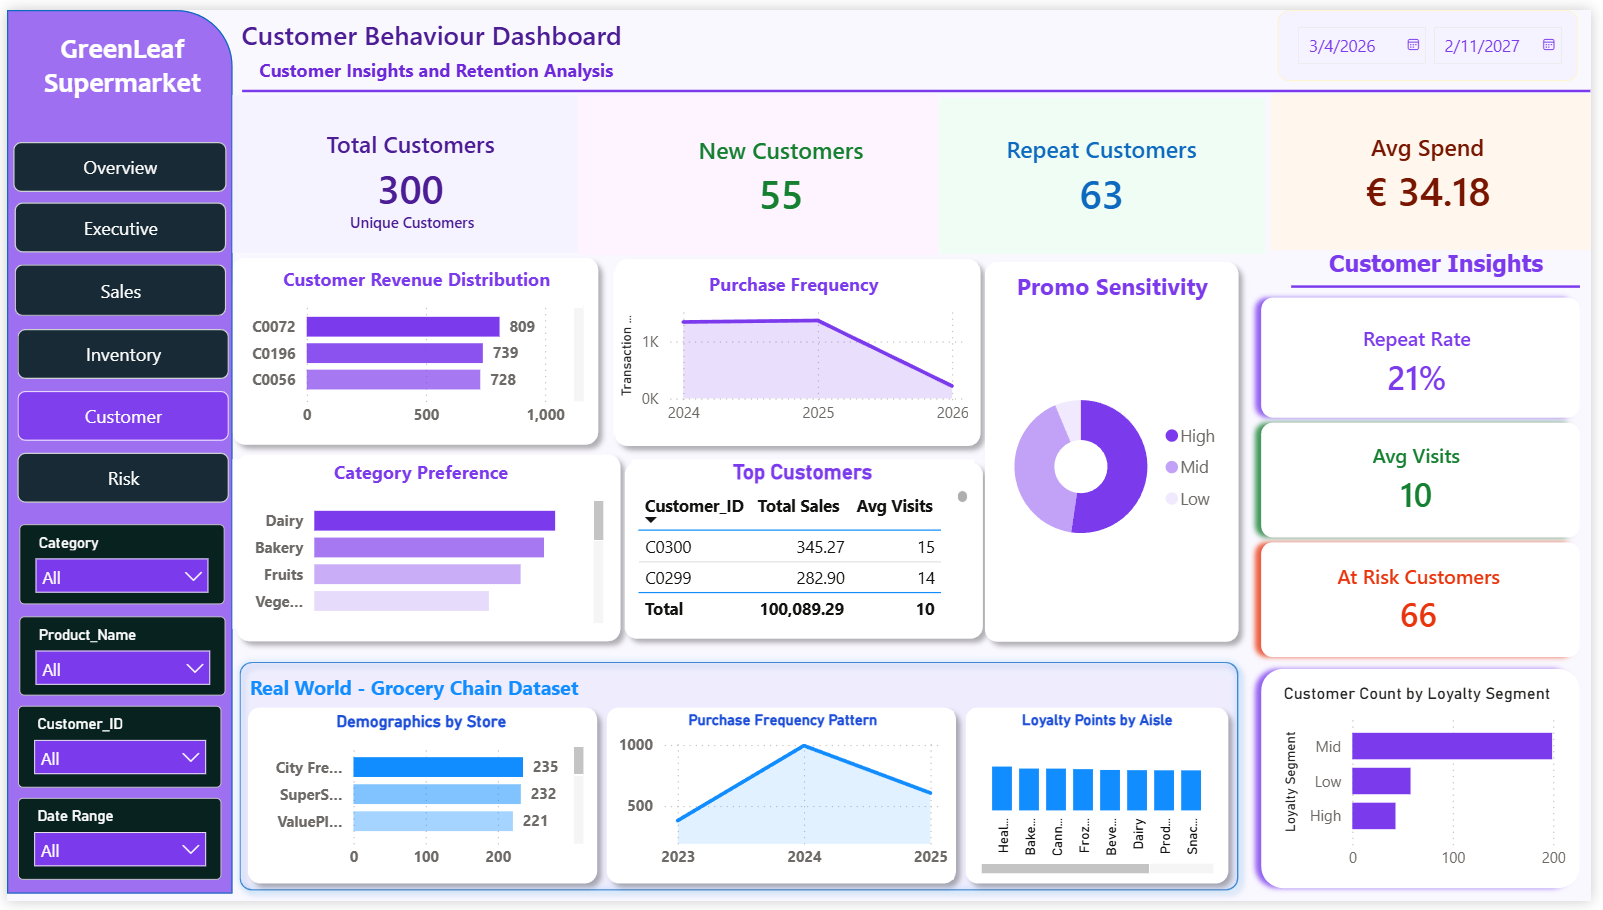

The page's visual inventory and layout, read from the dashboard file:
{"tool":"powerbi","page":{"name":"Customer","canvas":[1280,720],"ordinal":4},"visuals":[{"type":"group","id":"g1","title":"Group 4","box":[0,0,186.5,719.4],"z":0},{"type":"shape","box":[0,0,182.3,714.1],"z":1,"group":"g1"},{"type":"shape","box":[182.3,0,1098,68.7],"z":1000},{"type":"actionButton","box":[0,107.2,182.3,40.4],"z":1000,"group":"g1"},{"type":"textbox","box":[184.3,0,320,40],"z":2000},{"type":"actionButton","box":[1.4,155.9,180.9,40.4],"z":2000,"group":"g1"},{"type":"textbox","box":[198.6,32.9,351.4,30],"z":3000},{"type":"actionButton","box":[1.4,206,180.9,41.8],"z":3000,"group":"g1"},{"type":"slicer","fields":{"Values":["Inventory_dataset.Expiry_Date"]},"box":[1027.1,0,242.9,57.1],"z":4000},{"type":"actionButton","box":[2.8,257.5,180.9,40.4],"z":4000,"group":"g1"},{"type":"shape","box":[190.5,58.4,1089.5,13.1],"z":5000},{"type":"actionButton","box":[2.8,307.6,180.9,40.4],"z":5000,"group":"g1"},{"type":"shape","box":[182.3,68.7,279.1,127.6],"z":6000},{"type":"actionButton","box":[2.8,357.7,180.9,40.4],"z":6000,"group":"g1"},{"type":"shape","box":[461.3,67.3,291.7,130.4],"z":7000},{"type":"slicer","fields":{"Values":["Products_dataset.Category"]},"box":[9.5,415.3,165.7,65.1],"z":7000,"group":"g1"},{"type":"shape","box":[753,71.5,263.6,126.2],"z":8000},{"type":"slicer","fields":{"Values":["Products_dataset.Product_Name"]},"box":[9.5,489.9,166.9,63.9],"z":8000,"group":"g1"},{"type":"shape","box":[1020.9,67.3,259.4,126.2],"z":9000},{"type":"slicer","fields":{"Values":["Customers_dataset.Customer_ID"]},"box":[8.3,562.1,164.5,66.3],"z":9000,"group":"g1"},{"type":"textbox","title":"GreenLeaf Supermarket","box":[0,16.7,186.5,64],"z":10000,"group":"g1"},{"type":"cardVisual","fields":{"Data":["Sales_dataset.Total Customers"]},"box":[190.7,65.9,270.6,129],"z":10000},{"type":"textbox","box":[272,157.1,127.6,37.9],"z":11000},{"type":"slicer","fields":{"Values":["Sales_dataset.Date"]},"box":[8.3,636.6,164.5,66.3],"z":11000,"group":"g1"},{"type":"cardVisual","fields":{"Data":["Customers_dataset.New Customers"]},"box":[528.7,70.1,193.5,129],"z":12000},{"type":"cardVisual","fields":{"Data":["Customers_dataset.Repeat Customers"]},"box":[765.6,75.7,238.4,117.8],"z":13000},{"type":"cardVisual","fields":{"Data":["Customers_dataset.Avg Spend"]},"box":[1054.5,68.7,187.9,126.2],"z":14000},{"type":"textbox","box":[1062.8,188.1,201.2,35],"z":15000},{"type":"shape","box":[1038,211.4,233.3,24.8],"z":16000},{"type":"shape","box":[173.5,191,313.4,169.1],"z":19000},{"type":"shape","box":[1004.5,223.1,275.5,115.2],"z":19000,"group":"g2"},{"type":"group","id":"g2","title":"Group 1","box":[1004.5,223.1,275.5,495.7],"z":20000},{"type":"cardVisual","fields":{"Data":["Customers_dataset.Repeat Rate"]},"box":[1027.8,239.1,223.1,90.4],"z":20000,"group":"g2"},{"type":"shape","box":[482.6,192.4,313.4,169.1],"z":21000},{"type":"shape","box":[1004.5,323.7,275.5,110.8],"z":21000,"group":"g2"},{"type":"cardVisual","fields":{"Data":["Customers_dataset.Avg Visits"]},"box":[1062.8,335.4,153.1,86],"z":22000,"group":"g2"},{"type":"shape","box":[176.4,349.9,328,169.1],"z":22000},{"type":"shape","box":[489.8,357.2,307.6,160.4],"z":23000},{"type":"shape","box":[1004.5,421.4,275.5,110.8],"z":23000,"group":"g2"},{"type":"barChart","title":"Customer Revenue Distribution","fields":{"Category":["Customers_dataset.Customer_ID"],"Y":["Customers_dataset.Total Sales"]},"box":[191,207,279.9,138.5],"z":24000},{"type":"cardVisual","fields":{"Data":["Customers_dataset.At Risk Customers"]},"box":[1020.7,433.4,239.8,85.5],"z":24000,"group":"g2"},{"type":"lineChart","title":"Purchase Frequency","fields":{"Category":["Sales_dataset.Date.Variation.Date Hierarchy.Year","Sales_dataset.Date.Variation.Date Hierarchy.Quarter","Sales_dataset.Date.Variation.Date Hierarchy.Month","Sales_dataset.Date.Variation.Date Hierarchy.Day"],"Y":["Sales_dataset.Transaction Count"]},"box":[489.8,211.4,291.6,132.7],"z":25000},{"type":"shape","box":[1004.5,523.4,275.5,195.4],"z":25000,"group":"g2"},{"type":"barChart","title":"Category Preference","fields":{"Category":["Products_dataset.Category"],"Y":["Customers_dataset.Total Sales"]},"box":[182.2,363,304.7,137],"z":26000},{"type":"clusteredBarChart","fields":{"Category":["Customers_dataset.Loyalty Segment"],"Y":["Customers_dataset.Customer Count"]},"box":[1026.4,543.8,237.6,158.9],"z":26000,"group":"g2"},{"type":"tableEx","title":"Top Customers","fields":{"Values":["Sales_dataset.Customer_ID","Customers_dataset.Total Sales","Customers_dataset.Avg Visits"]},"box":[504.4,363,277,137],"z":27000},{"type":"shape","box":[781.4,193.9,223.1,325.1],"z":28000},{"type":"shape","box":[179.3,517.5,825.1,202.6],"z":29000},{"type":"donutChart","title":" Promo Sensitivity","fields":{"Category":["Customers_dataset.Promo Sensitivity"],"Y":["Customers_dataset.Customer Count"]},"box":[796,209.9,195.4,293],"z":30000},{"type":"shape","box":[185.1,554,300.3,160.4],"z":31000},{"type":"textbox","box":[190.7,531.5,360.4,43.5],"z":32000},{"type":"shape","box":[475.3,554,300.3,160.4],"z":33000},{"type":"shape","box":[765.4,554,230.3,160.4],"z":34000},{"type":"clusteredBarChart","title":"Demographics by Store","fields":{"Category":["grocery_chain_data.store_name"],"Y":["grocery_chain_data.GC Cust Transaction Count"]},"box":[199.1,566.5,272,136],"z":35000},{"type":"lineChart","title":"Purchase Frequency Pattern","fields":{"Category":["grocery_chain_data.transaction_date.Variation.Date Hierarchy.Year","grocery_chain_data.transaction_date.Variation.Date Hierarchy.Quarter","grocery_chain_data.transaction_date.Variation.Date Hierarchy.Month","grocery_chain_data.transaction_date.Variation.Date Hierarchy.Day"],"Y":["grocery_chain_data.GC Cust Transaction Count"]},"box":[489.4,566.5,276.2,136],"z":36000},{"type":"clusteredColumnChart","title":"Loyalty Points by Aisle","fields":{"Category":["grocery_chain_data.aisle"],"Y":["grocery_chain_data.GC Cust Avg Loyalty"]},"box":[782.5,566.5,197.7,136],"z":37000}]}

Visuals, with their boxes in screenshot pixels (x1, y1, x2, y2), scaled from the page's 1280x720 canvas onto the 1603x910 screenshot:
"Group 4" group: <box>0,0,234,909</box>
shape: <box>0,0,228,903</box>
shape: <box>228,0,1602,87</box>
actionButton: <box>0,135,228,187</box>
textbox: <box>231,0,632,51</box>
actionButton: <box>2,197,228,248</box>
textbox: <box>249,42,689,79</box>
actionButton: <box>2,260,228,313</box>
slicer - Inventory_dataset.Expiry_Date: <box>1286,0,1590,72</box>
actionButton: <box>4,325,230,377</box>
shape: <box>239,74,1602,90</box>
actionButton: <box>4,389,230,440</box>
shape: <box>228,87,578,248</box>
actionButton: <box>4,452,230,503</box>
shape: <box>578,85,943,250</box>
slicer - Products_dataset.Category: <box>12,525,219,607</box>
shape: <box>943,90,1273,250</box>
slicer - Products_dataset.Product_Name: <box>12,619,221,700</box>
shape: <box>1279,85,1602,245</box>
slicer - Customers_dataset.Customer_ID: <box>10,710,216,794</box>
"GreenLeaf Supermarket" textbox: <box>0,21,234,102</box>
cardVisual - Sales_dataset.Total Customers: <box>239,83,578,246</box>
textbox: <box>341,199,500,246</box>
slicer - Sales_dataset.Date: <box>10,805,216,888</box>
cardVisual - Customers_dataset.New Customers: <box>662,89,904,252</box>
cardVisual - Customers_dataset.Repeat Customers: <box>959,96,1257,245</box>
cardVisual - Customers_dataset.Avg Spend: <box>1321,87,1556,246</box>
textbox: <box>1331,238,1583,282</box>
shape: <box>1300,267,1592,299</box>
shape: <box>217,241,610,455</box>
shape: <box>1258,282,1602,428</box>
"Group 1" group: <box>1258,282,1602,908</box>
cardVisual - Customers_dataset.Repeat Rate: <box>1287,302,1567,416</box>
shape: <box>604,243,997,457</box>
shape: <box>1258,409,1602,549</box>
cardVisual - Customers_dataset.Avg Visits: <box>1331,424,1523,533</box>
shape: <box>221,442,632,656</box>
shape: <box>613,451,999,654</box>
shape: <box>1258,533,1602,673</box>
"Customer Revenue Distribution" barChart: <box>239,262,590,437</box>
cardVisual - Customers_dataset.At Risk Customers: <box>1278,548,1579,656</box>
"Purchase Frequency" lineChart: <box>613,267,979,435</box>
shape: <box>1258,662,1602,908</box>
"Category Preference" barChart: <box>228,459,610,632</box>
clusteredBarChart - Customers_dataset.Loyalty Segment x Customers_dataset.Customer Count: <box>1285,687,1583,888</box>
"Top Customers" tableEx: <box>632,459,979,632</box>
shape: <box>979,245,1258,656</box>
shape: <box>225,654,1258,909</box>
" Promo Sensitivity" donutChart: <box>997,265,1242,636</box>
shape: <box>232,700,608,903</box>
textbox: <box>239,672,690,727</box>
shape: <box>595,700,971,903</box>
shape: <box>959,700,1247,903</box>
"Demographics by Store" clusteredBarChart: <box>249,716,590,888</box>
"Purchase Frequency Pattern" lineChart: <box>613,716,959,888</box>
"Loyalty Points by Aisle" clusteredColumnChart: <box>980,716,1228,888</box>
